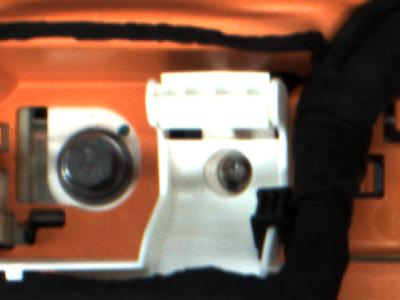nut_b: (55, 124, 139, 205)
